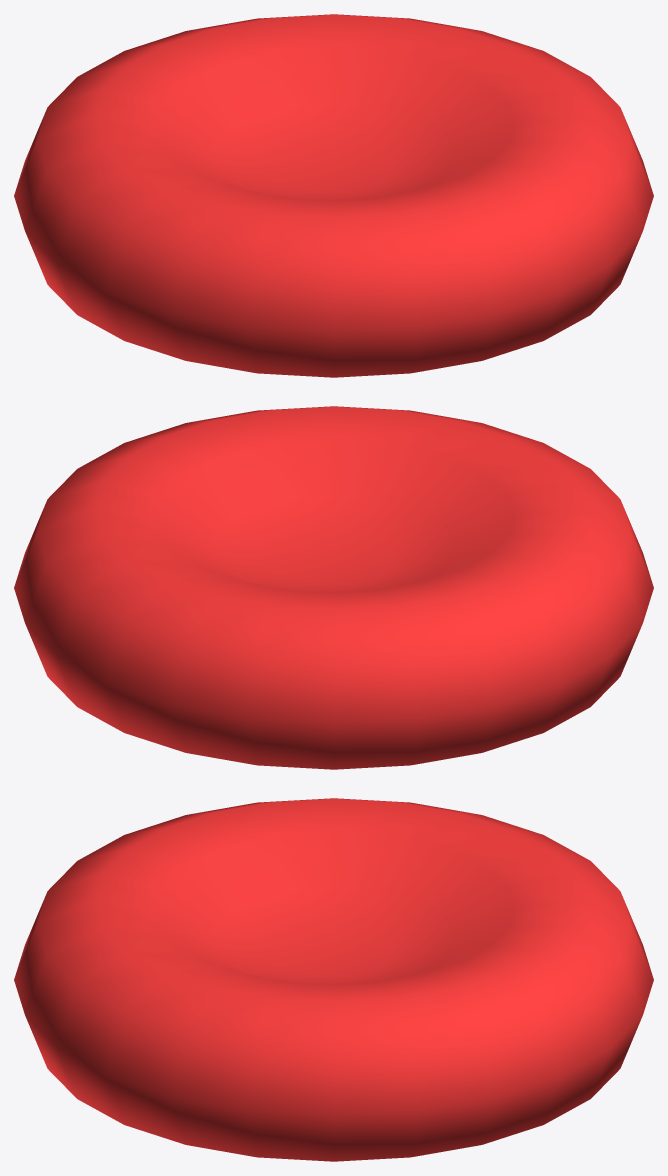
File: BloodCell_MODEL_0825_Mid.obj
3 renders of one model, top to bottom at view 1: azimuth 30°, elevation 25°; view 2: azimuth 150°, elevation 25°; view 3: azimuth 270°, elevation 25°, orthographic.
Parts seen in each view (by area): view 1: Cell_Mid; view 2: Cell_Mid; view 3: Cell_Mid.
Part boxes in pixels (left/top/right/bottom): Cell_Mid: left=14, top=14, right=653, bottom=377; Cell_Mid: left=14, top=406, right=653, bottom=769; Cell_Mid: left=14, top=798, right=653, bottom=1161.
Size of the model in its own units: 8 by 2.2 by 8.
